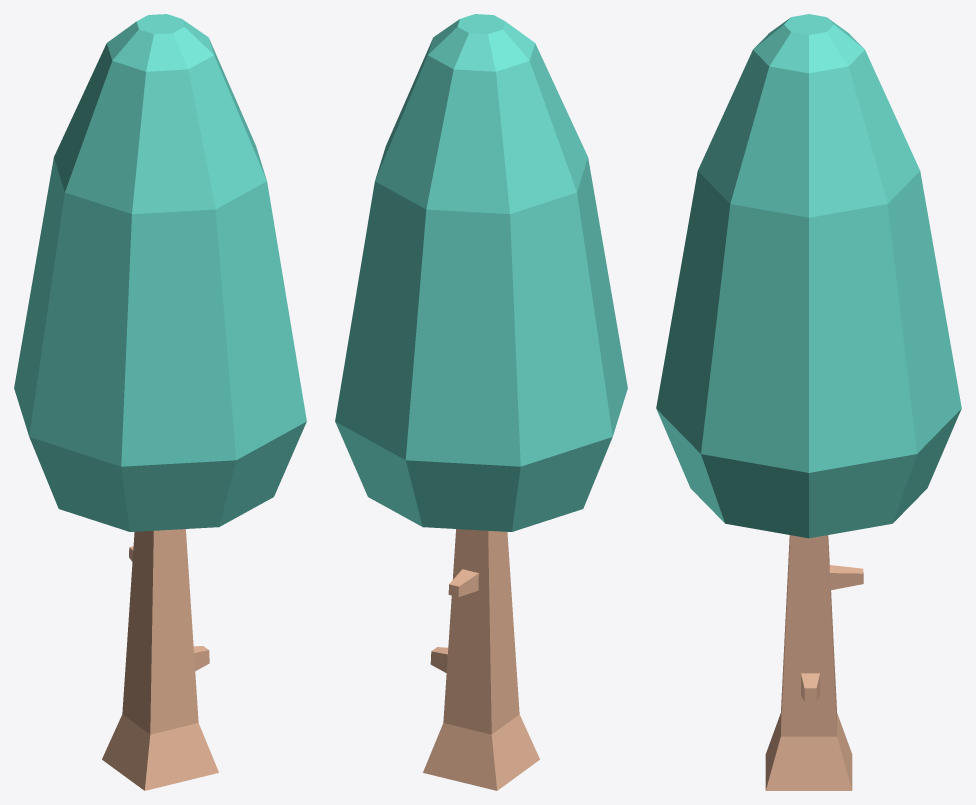
Rendered from tree_cone.glb.
3 views of the same model, side by side, from view 1: azimuth 30°, elevation 25°; view 2: azimuth 150°, elevation 25°; view 3: azimuth 270°, elevation 25° (orthographic).
Parts seen in each view (by area): view 1: tree_cone; view 2: tree_cone; view 3: tree_cone.
Boxes of the visible parts, x1,y1,x2,y2 form: tree_cone: (14, 14, 306, 790); tree_cone: (335, 14, 627, 790); tree_cone: (656, 14, 961, 790).
Bounding box in the file's own units: 0.5297 × 1.43 × 0.5297.
